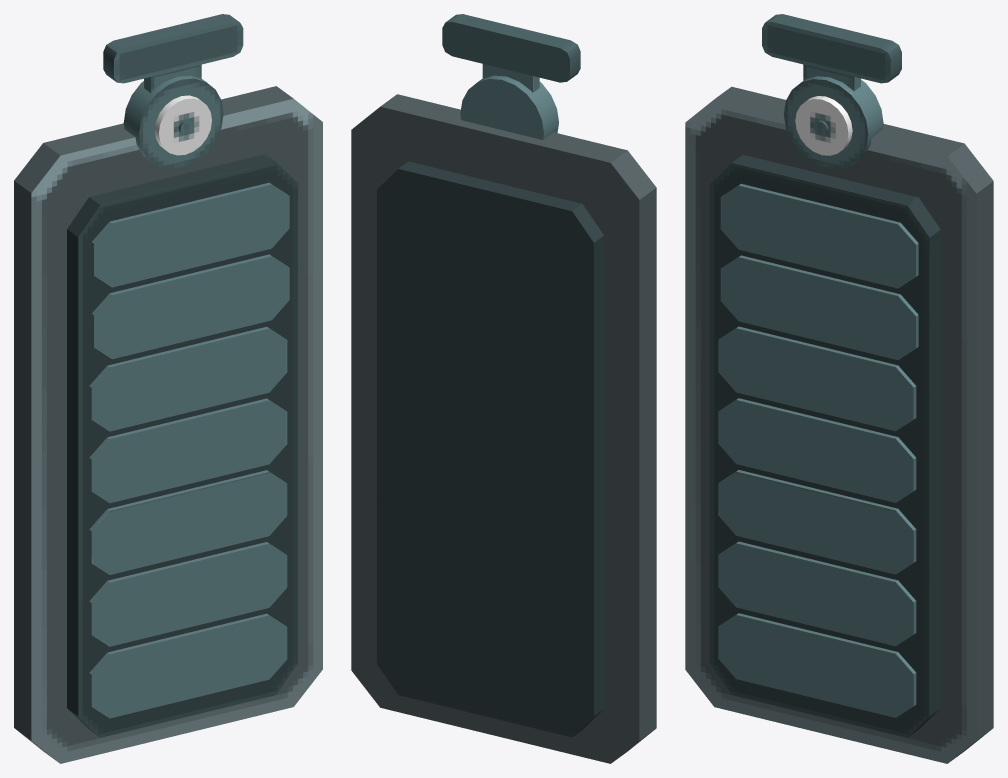
The model's file is Oxigeno HUD 3D (Misma función que el otro).fbx.
The picture shows the model from 3 angles, left to right: view 1: azimuth 30°, elevation 25°; view 2: azimuth 150°, elevation 25°; view 3: azimuth 330°, elevation 25°; orthographic projection.
Visible parts, largest first — view 1: pCube15; view 2: pCube15; view 3: pCube15.
Part boxes in pixels (<box>): pCube15: <box>14,14,322,763</box>; pCube15: <box>351,14,656,763</box>; pCube15: <box>685,14,993,763</box>.
Size of the model in its own units: 0.3153 by 0.7262 by 0.0773.
